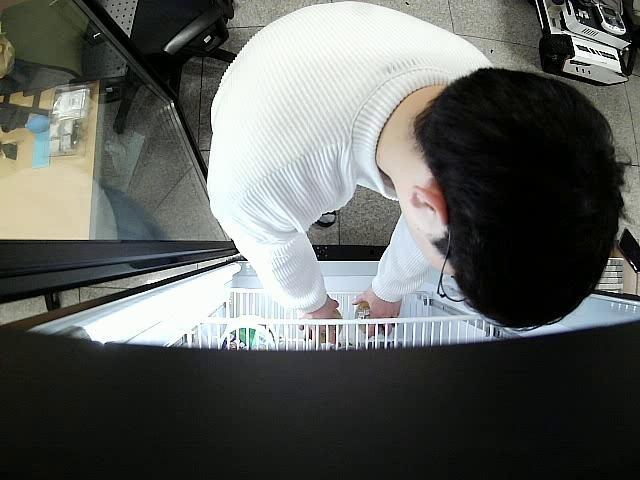04_chapagetti_S: (311, 308, 344, 342), (356, 302, 386, 336)
